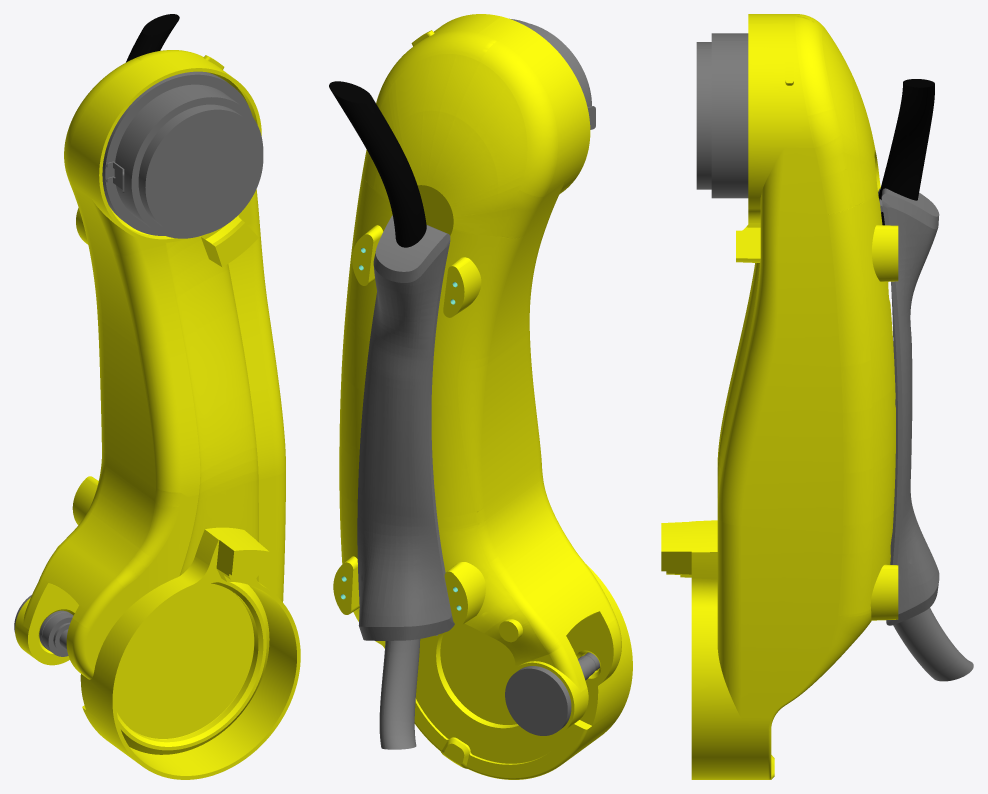
3 views of the same model, side by side, from view 1: azimuth 30°, elevation 25°; view 2: azimuth 150°, elevation 25°; view 3: azimuth 270°, elevation 25° (orthographic). The views are drawn at different scales.
Parts seen in each view (by area): view 1: Mesh_0; view 2: Mesh_0; view 3: Mesh_0.
Boxes of the visible parts, bbox=[...] form: Mesh_0: bbox=[14, 14, 300, 779]; Mesh_0: bbox=[329, 14, 632, 779]; Mesh_0: bbox=[661, 14, 973, 779].
Size of the model in its own units: 0.4808 by 0.5574 by 1.47.
